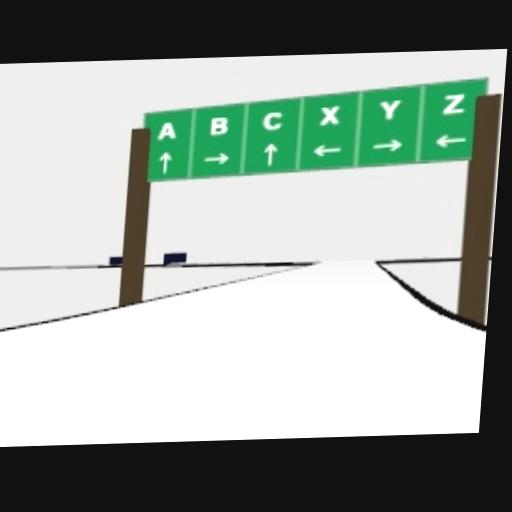A: (157, 121, 175, 141)
B: (209, 115, 229, 135)
C: (261, 111, 284, 130)
Left: (433, 133, 467, 148), (311, 144, 341, 156)
Right: (372, 139, 402, 152), (201, 152, 230, 165)
Straight: (262, 142, 278, 165), (156, 151, 171, 173)
X: (318, 104, 339, 126)
Y: (378, 98, 400, 120)
Z: (442, 93, 466, 115)
